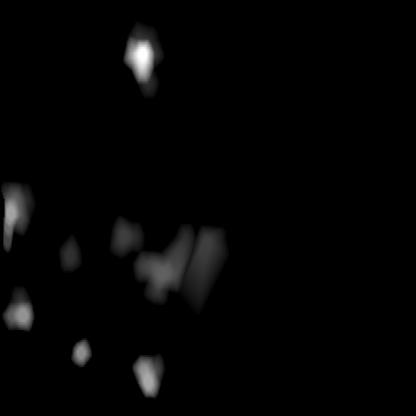fingers: (123, 32, 154, 84)
palm: (3, 184, 158, 398)
